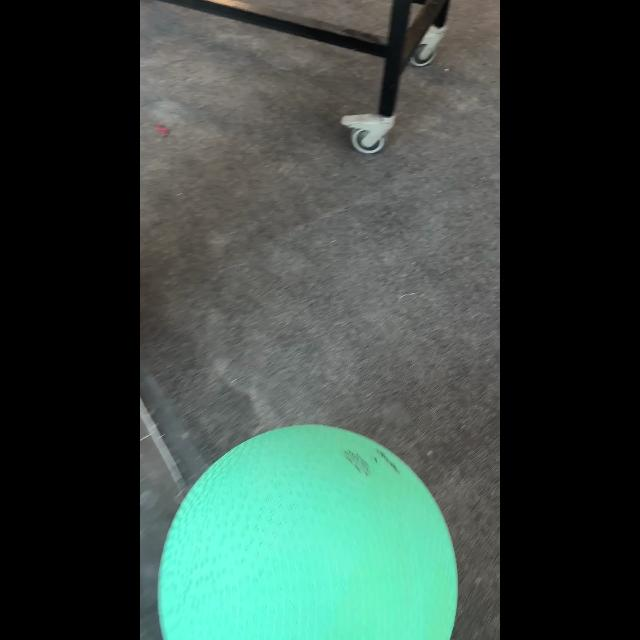ALGAE: (157, 424, 459, 638)
